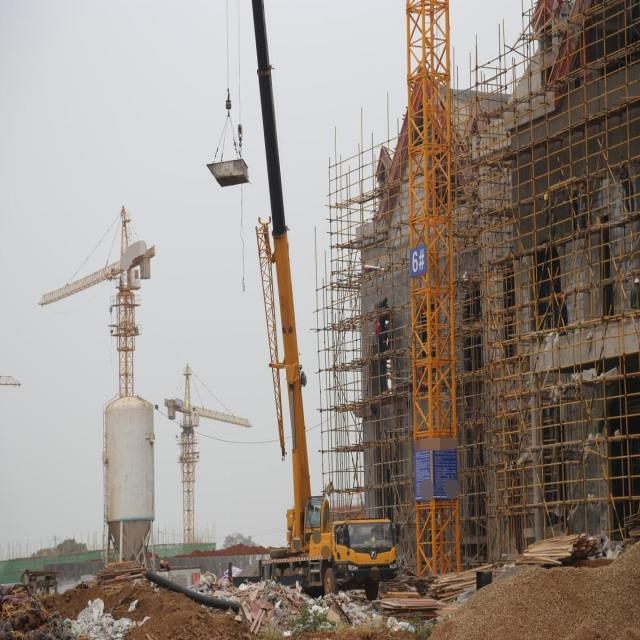crane: (241, 0, 400, 602), (400, 0, 463, 582), (34, 200, 168, 415), (156, 356, 257, 557), (0, 369, 22, 394)
